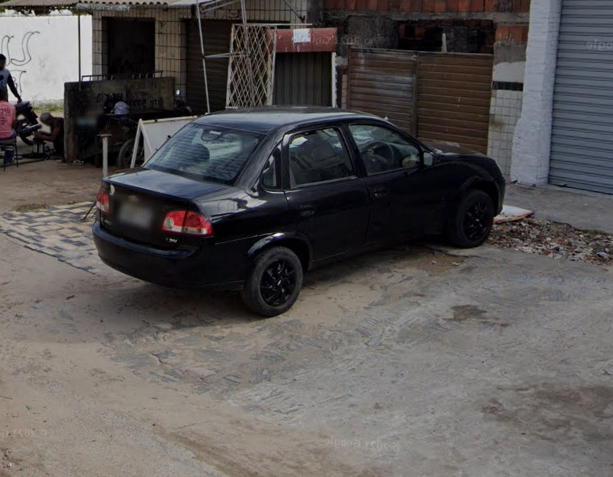car: (92, 104, 507, 316)
